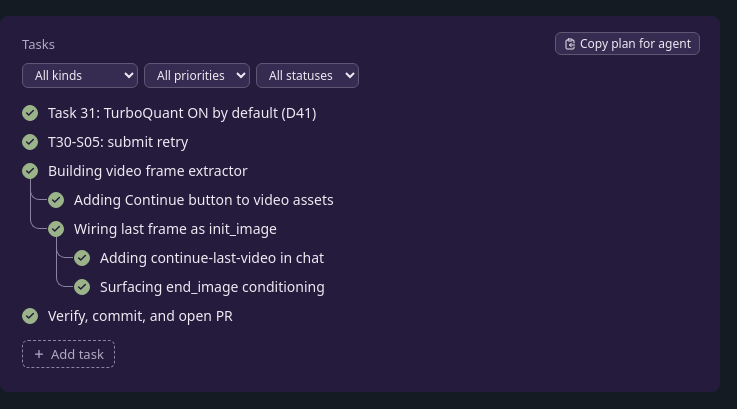
double-click renames a task in place
Step 1. Double-click the text "T30-S05: submit retry" → x=118, y=142, box x1=48 y1=132 x2=188 y2=151
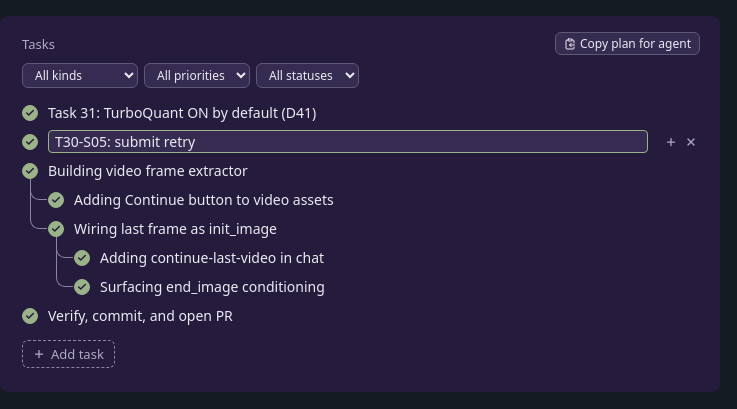
Step 2. Replace the text in the field showing "T30-S05: submit retry" with "T30-S05: retry with backoff" → x=348, y=142, box x1=48 y1=130 x2=648 y2=153
Then press Enter
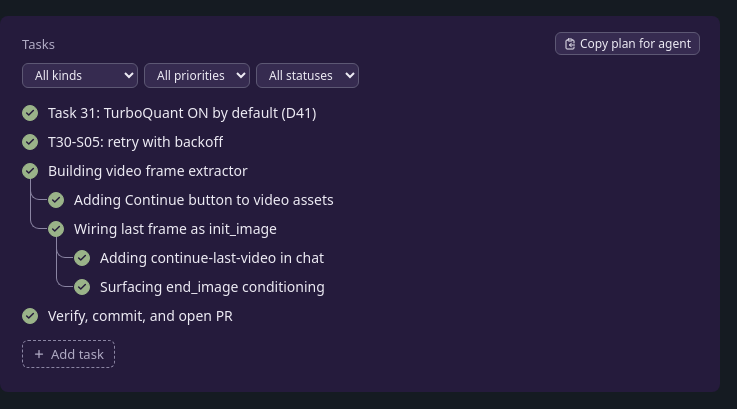
Expected: the text "T30-S05: retry with backoff" is shown, x1=48 y1=132 x2=223 y2=151
